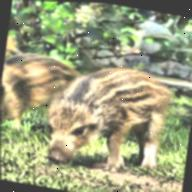boar: (46, 47, 184, 192), (0, 25, 76, 144)
